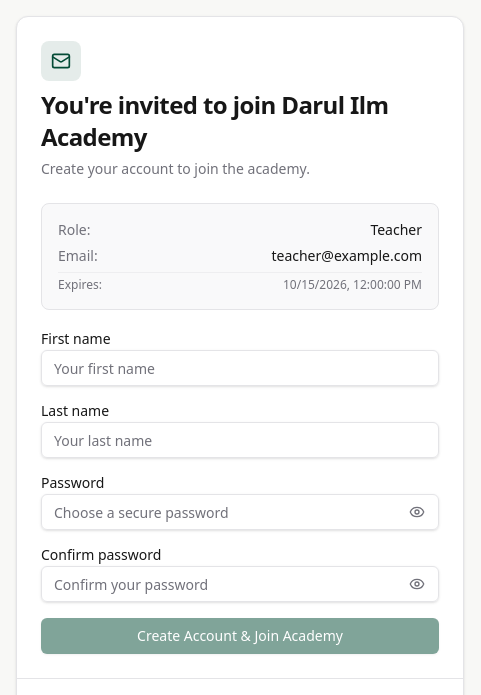
it: AcceptInvitationPage › New User Onboarding (Unauthenticated) › prevents submission when password and confirm password do not match
The width and height of the screenshot is (481, 695).
Expected: the text "You're invited to join Darul Ilm Academy" is shown, [41, 89, 439, 153]
Type "Zayd" into the field labelled "First name" at [240, 368], box [41, 350, 439, 386]
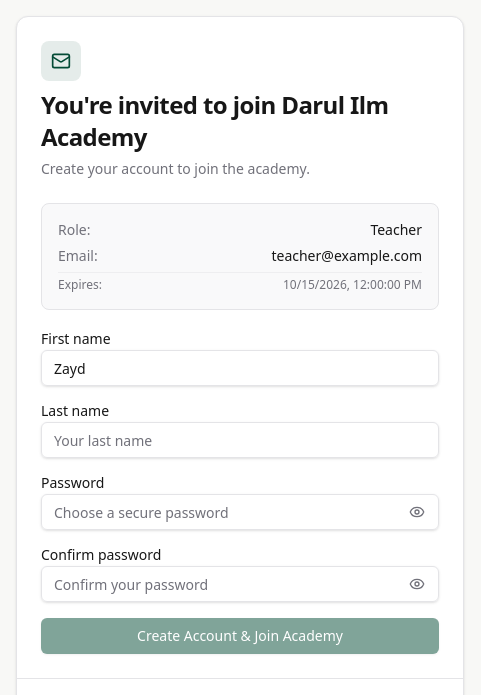
Type "Ali" into the field labelled "Last name" at [240, 440], box [41, 422, 439, 458]
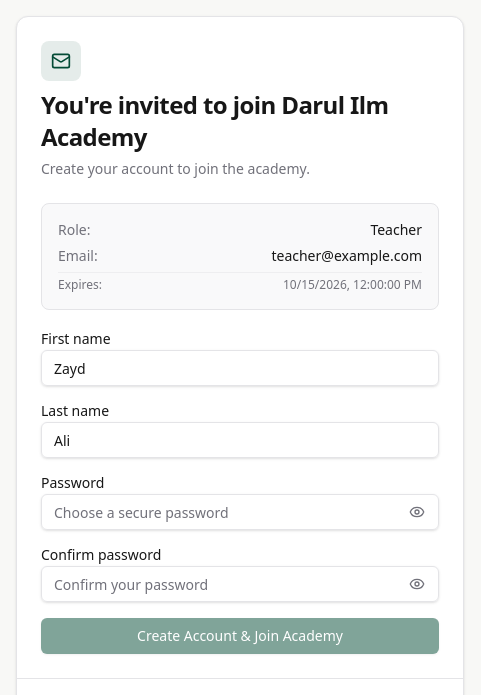
Type "Password123!" into the password field labelled "Password" at [240, 512], box [41, 494, 439, 530]
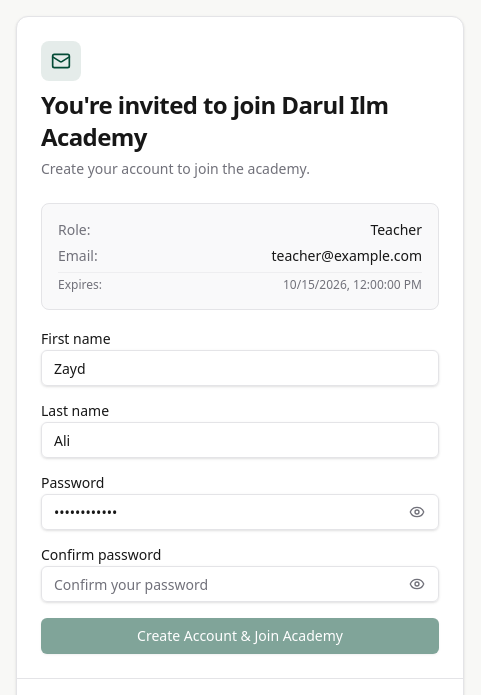
Type "DifferentPass!" into the password field labelled "Confirm password" at [240, 584], box [41, 566, 439, 602]
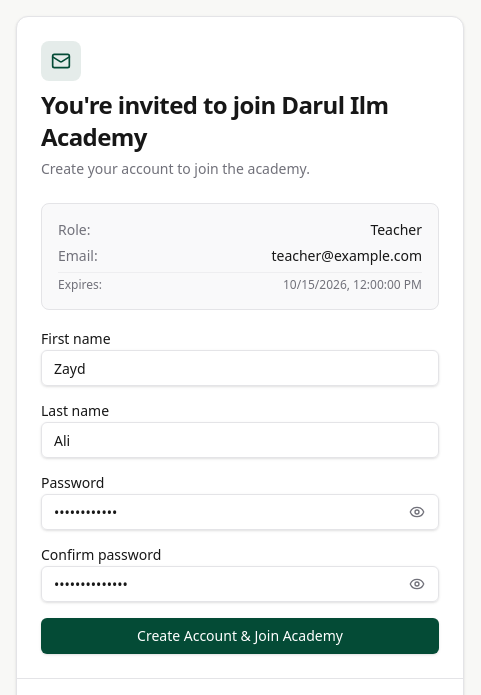
Click the button "Create Account & Join Academy" at [240, 636], box [41, 618, 439, 654]
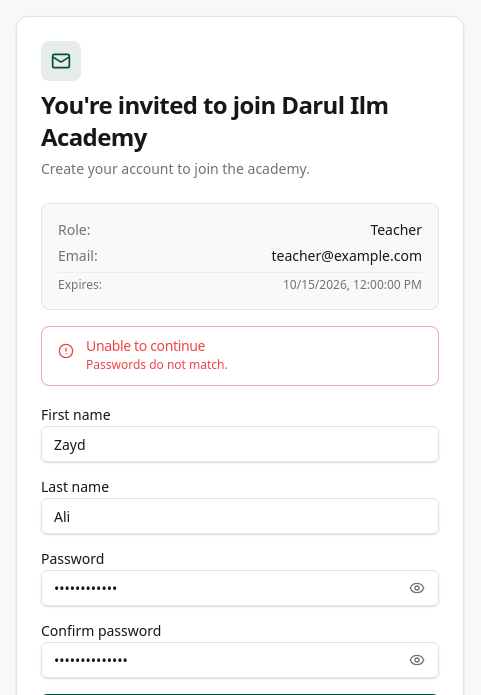
Now the text "Passwords do not match." is shown, box [86, 356, 228, 373]
